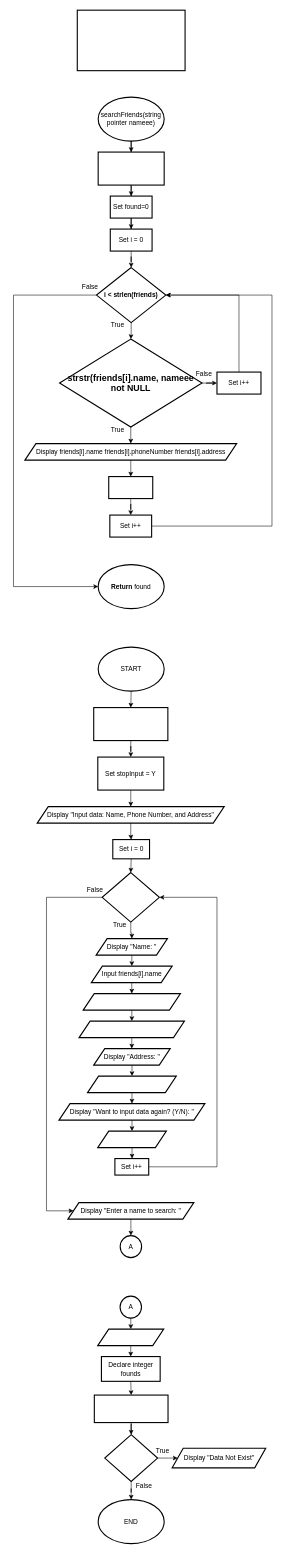
Some shapes in this 286 by 1553 pixel diagram are drawn without their labels. Here are the shapes that lost their labels. From the top down, the box of each, then its label:
(76, 9, 185, 71): struct Friend( string name string phoneNumber string address )as array friends
(97, 151, 164, 185): Declare integer i, found
(108, 476, 153, 499): Set found = 1
(93, 707, 168, 741): Declare integer i Declare string namee Declare char stopInput
(101, 872, 160, 922): stopInput == Y
(82, 993, 181, 1010): Display "Phone Number: "
(78, 1020, 185, 1038): Input friends[i].phoneNumber
(87, 1075, 177, 1093): Input friends[i].address
(97, 1130, 167, 1148): Input stopInput
(97, 1328, 164, 1346): Input namee
(94, 1394, 168, 1423): Set founds = searchFriends(namee)
(104, 1434, 158, 1482): founds not 1
